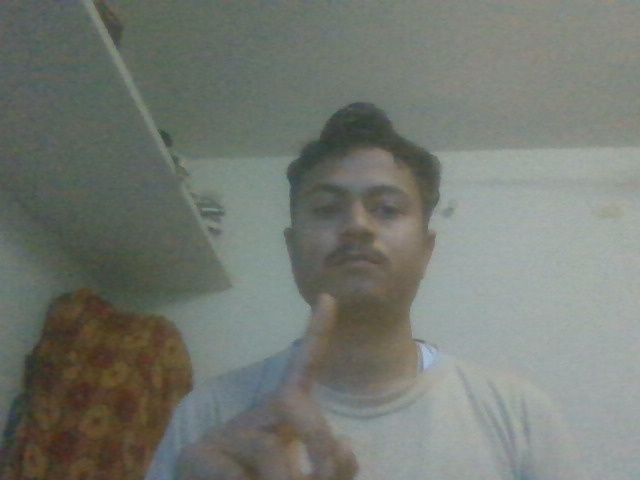No: (199, 292, 371, 480)
